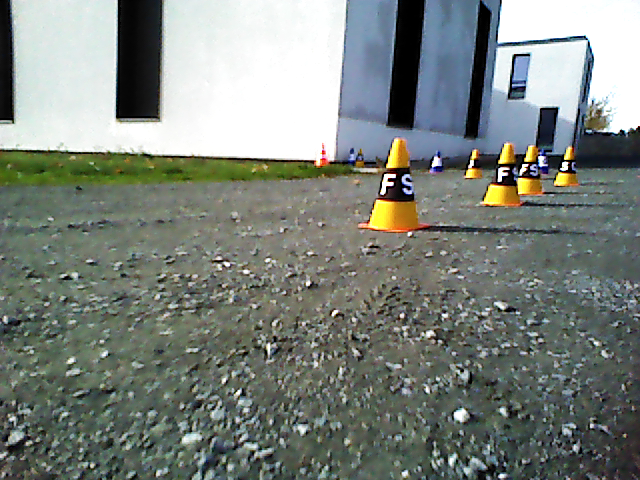bluecone: (370, 139, 416, 228), (482, 143, 520, 202), (517, 146, 542, 192), (553, 146, 580, 183), (466, 149, 484, 177)
